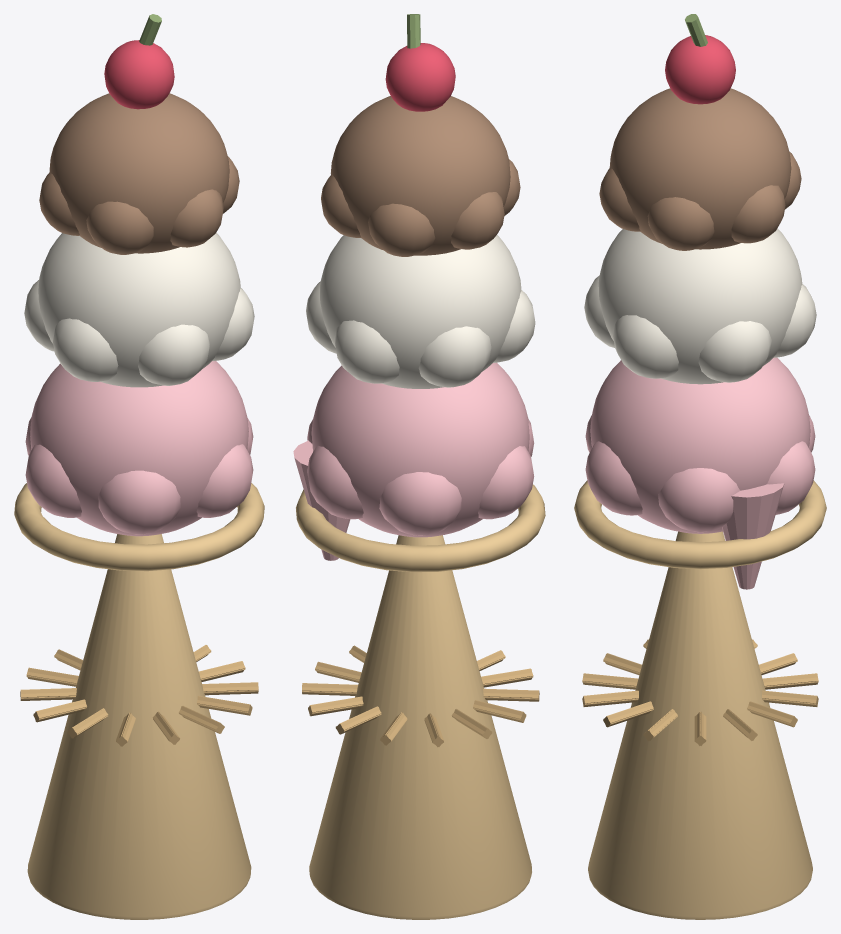
File: ice_cream_cone.glb
3 renders of one model, left to right at view 1: azimuth 30°, elevation 25°; view 2: azimuth 150°, elevation 25°; view 3: azimuth 270°, elevation 25°, orthographic.
Visible parts, largest first — view 1: Cone_Body, Cone_Scoop_0, Cone_Scoop_1, Cone_Scoop_2, Cone_Rim, Cone_Lobe_0_4, Cone_Cherry, Cone_Lobe_1_4, Cone_Lobe_1_3, Cone_Lobe_2_3, Cone_Lobe_0_3, Cone_Lobe_0_5 (+11 smaller); view 2: Cone_Body, Cone_Scoop_0, Cone_Scoop_1, Cone_Scoop_2, Cone_Rim, Cone_Lobe_0_2, Cone_Cherry, Cone_Lobe_1_2, Cone_Lobe_1_1, Cone_Lobe_2_1, Cone_Lobe_0_3, Cone_Lobe_0_1 (+12 smaller); view 3: Cone_Body, Cone_Scoop_0, Cone_Scoop_1, Cone_Scoop_2, Cone_Rim, Cone_Lobe_0_0, Cone_Cherry, Cone_Lobe_1_0, Cone_Lobe_1_5, Cone_Drip, Cone_Lobe_2_5, Cone_Lobe_0_5 (+13 smaller).
Part boxes in pixels (box(x1,y1,x2,y2)): Cone_Body: box(27, 534, 251, 919); Cone_Scoop_0: box(30, 361, 248, 536); Cone_Scoop_1: box(38, 232, 240, 387); Cone_Scoop_2: box(49, 93, 229, 253); Cone_Rim: box(14, 483, 264, 571); Cone_Lobe_0_4: box(98, 470, 180, 534); Cone_Cherry: box(104, 40, 174, 109); Cone_Lobe_1_4: box(138, 324, 209, 385); Cone_Lobe_1_3: box(53, 318, 118, 381); Cone_Lobe_2_3: box(86, 201, 153, 254); Cone_Lobe_0_3: box(25, 444, 81, 517); Cone_Lobe_0_5: box(196, 444, 253, 517); Cone_Body: box(309, 535, 531, 919); Cone_Scoop_0: box(311, 362, 529, 537); Cone_Scoop_1: box(320, 235, 521, 388); Cone_Scoop_2: box(330, 96, 510, 255); Cone_Rim: box(296, 484, 545, 572); Cone_Lobe_0_2: box(379, 472, 461, 535); Cone_Cherry: box(385, 43, 455, 111); Cone_Lobe_1_2: box(418, 326, 491, 387); Cone_Lobe_1_1: box(334, 320, 399, 383); Cone_Lobe_2_1: box(368, 203, 435, 256); Cone_Lobe_0_3: box(478, 446, 534, 519); Cone_Lobe_0_1: box(307, 445, 363, 519); Cone_Body: box(588, 531, 812, 919); Cone_Scoop_0: box(590, 357, 810, 533); Cone_Scoop_1: box(598, 228, 802, 384); Cone_Scoop_2: box(609, 88, 791, 249); Cone_Rim: box(574, 480, 826, 569); Cone_Lobe_0_0: box(658, 468, 740, 532); Cone_Cherry: box(665, 35, 735, 104); Cone_Lobe_1_0: box(698, 321, 771, 382); Cone_Lobe_1_5: box(613, 315, 678, 378); Cone_Drip: box(722, 483, 784, 589); Cone_Lobe_2_5: box(647, 197, 714, 250); Cone_Lobe_0_5: box(585, 441, 642, 515).
Size of the model in its own units: 0.0654 by 0.2466 by 0.0654.
